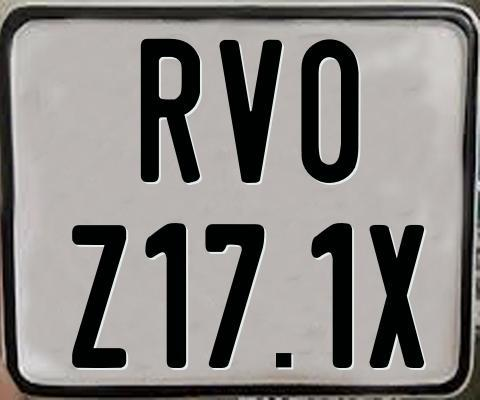0: (299, 38, 358, 186)
1: (142, 220, 185, 370), (310, 221, 352, 367)
7: (202, 221, 265, 365)
R: (141, 38, 201, 188)
V: (219, 37, 284, 183)
X: (368, 222, 429, 367)
Z: (71, 223, 126, 367)
